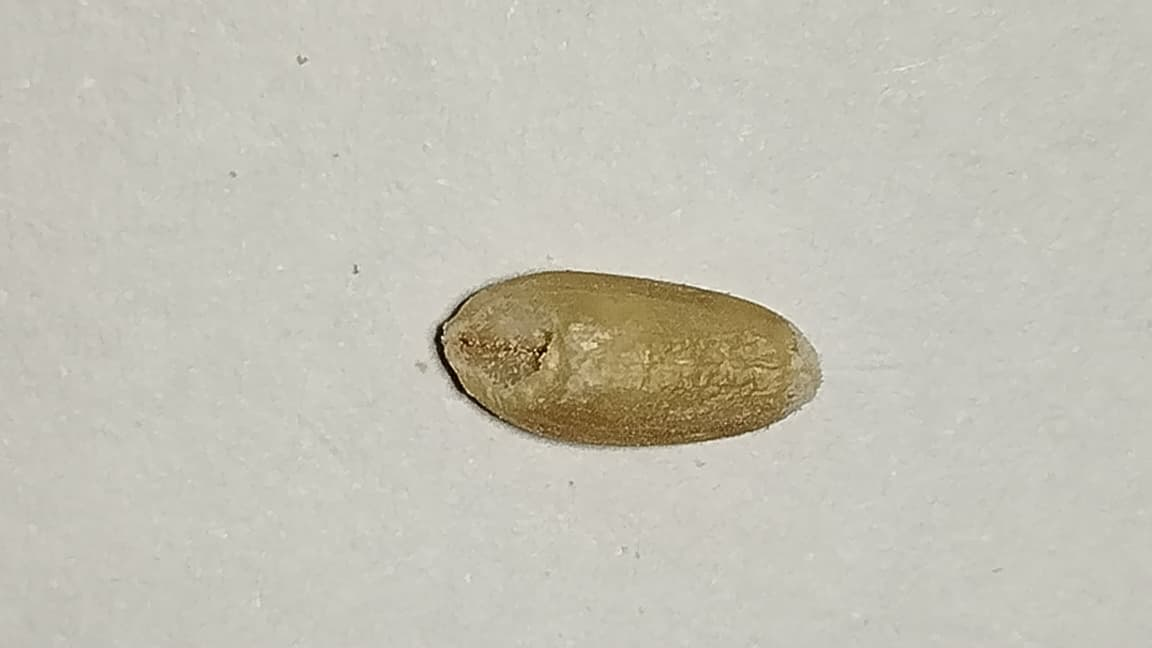damage: (437, 270, 820, 445)
insectdamage: (449, 300, 562, 403)
